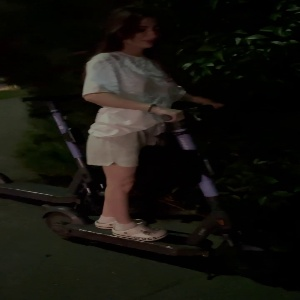human on a scooter: (38, 1, 281, 279)
